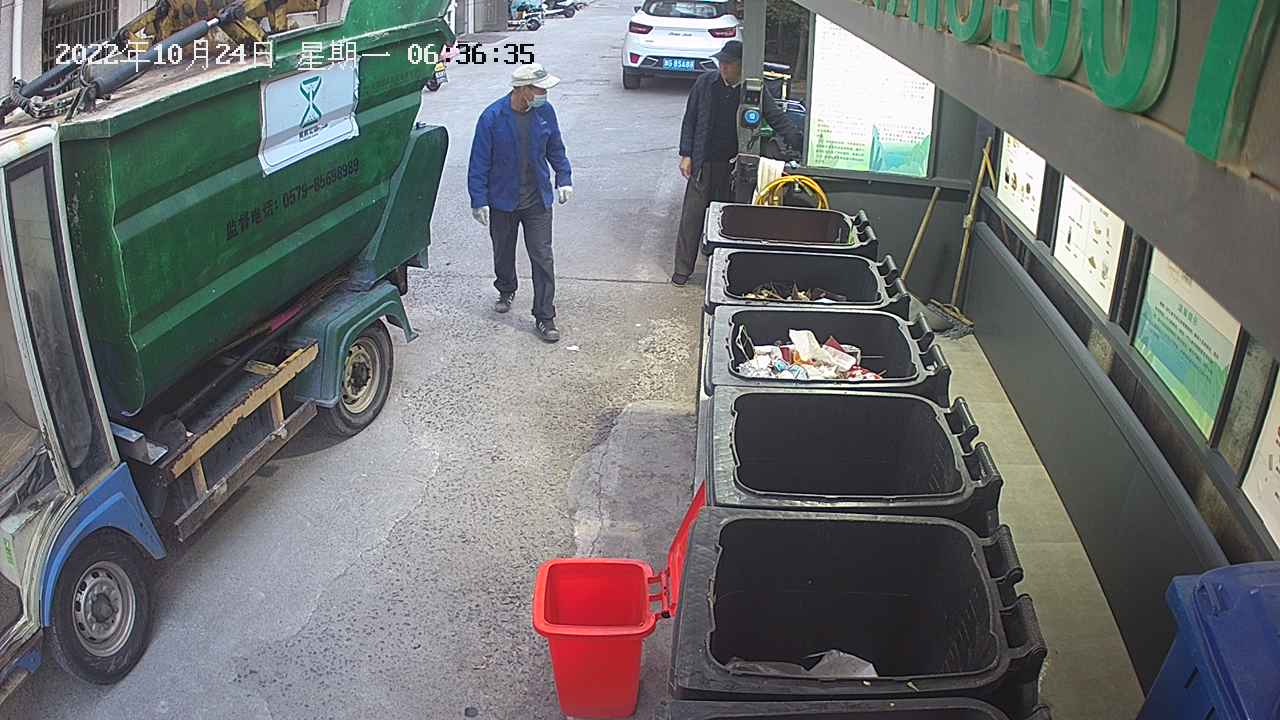person: (668, 37, 808, 290)
worker: (462, 59, 577, 344)
